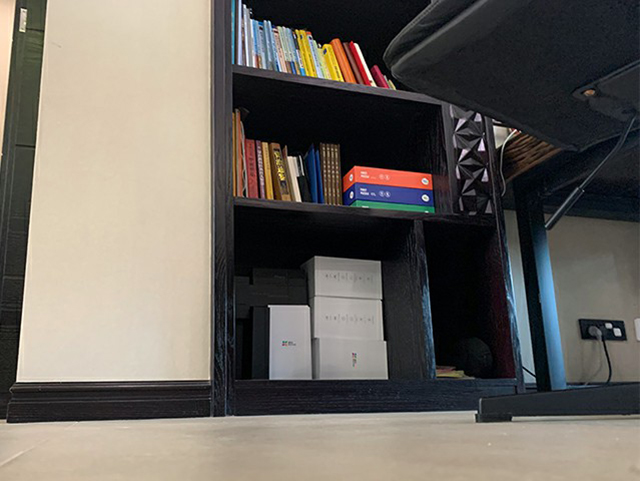cabinet: (209, 1, 524, 417)
stool: (383, 1, 640, 424)
wire: (562, 328, 618, 388)
